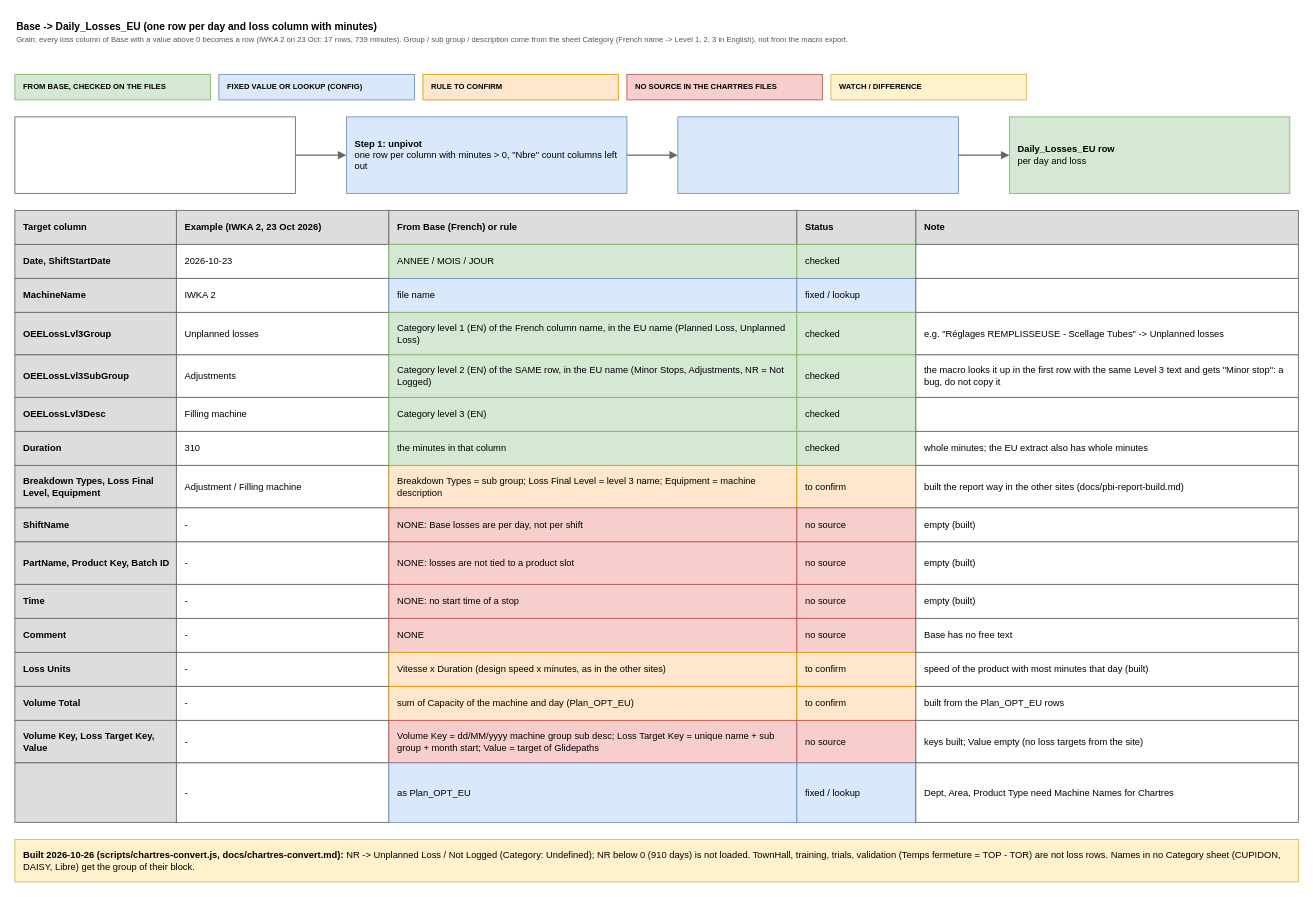
This 1313x897 diagram has some shape labels left out. The centre of each missing label's shape, as x and y in pixels:
"Base row of the day 141 loss columns (I to ES) in minutes" belongs at point 154,154.
"SiteName, Unique Machine Name, Dept, Area, Product Type, Data Source" belongs at point 95,792.
"Step 2: Category lookup French name -> Level 1 / 2 / 3 EN" belongs at point 817,154.
